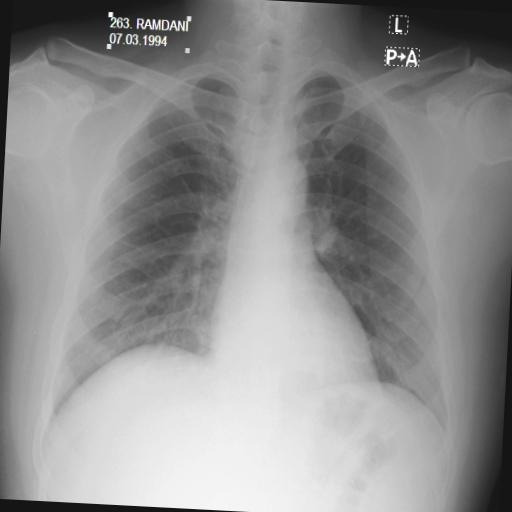normal: (196, 232, 384, 401)
